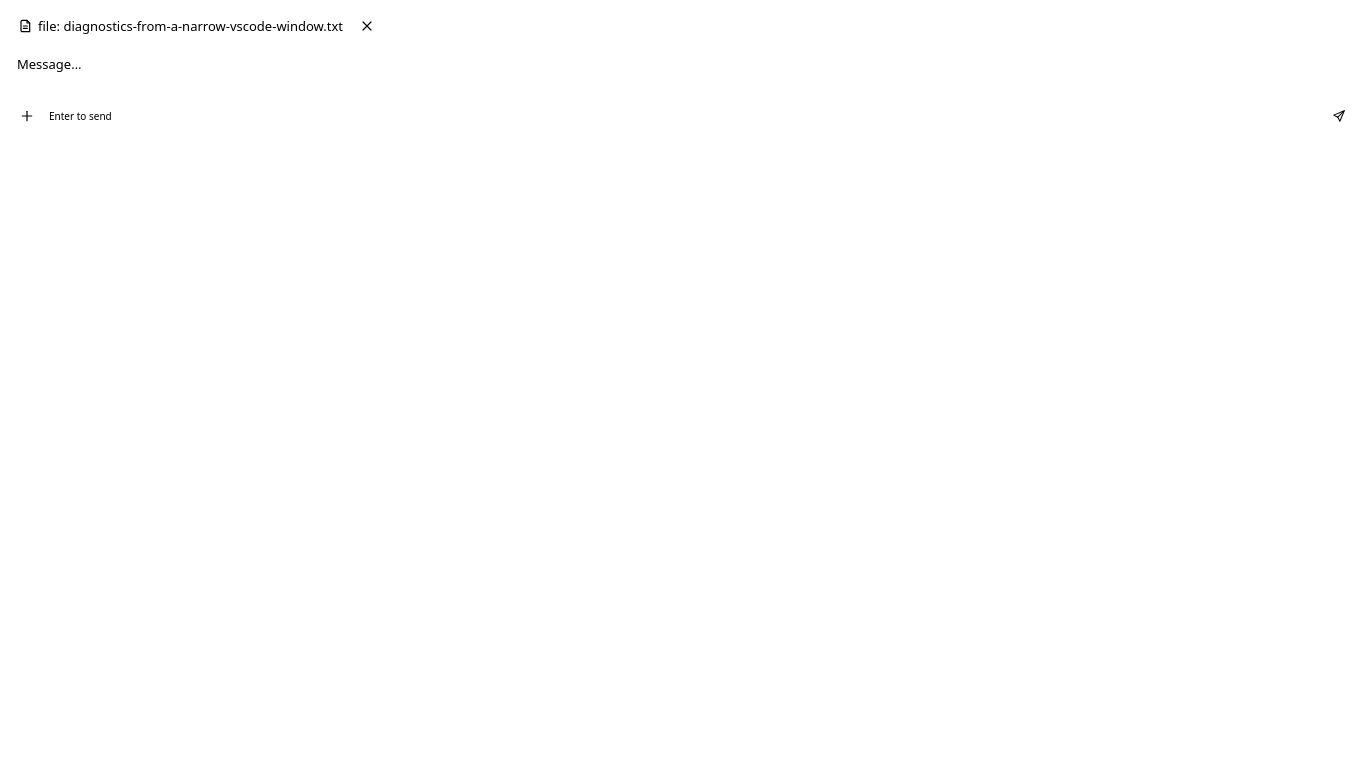
Test: Composer › keeps attachment controls usable when names are long
Click the button named "Editor context": (27, 116) [9, 98, 45, 134]
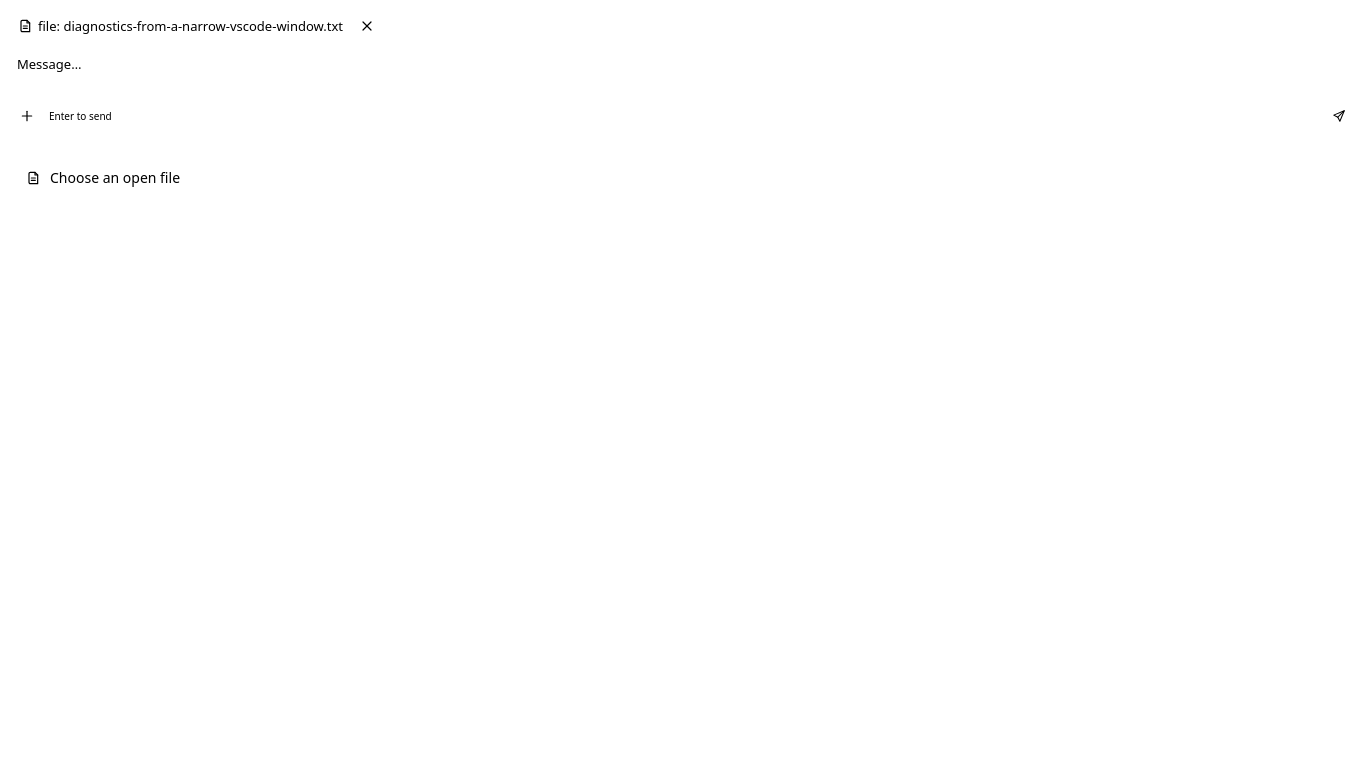
Expected: the button "Choose an open file" is shown, [17, 160, 447, 197]
